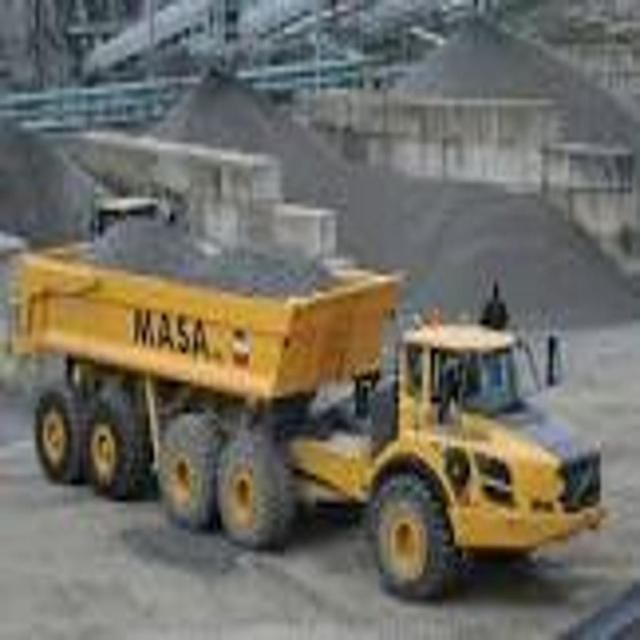dump_truck: (8, 194, 608, 592)
